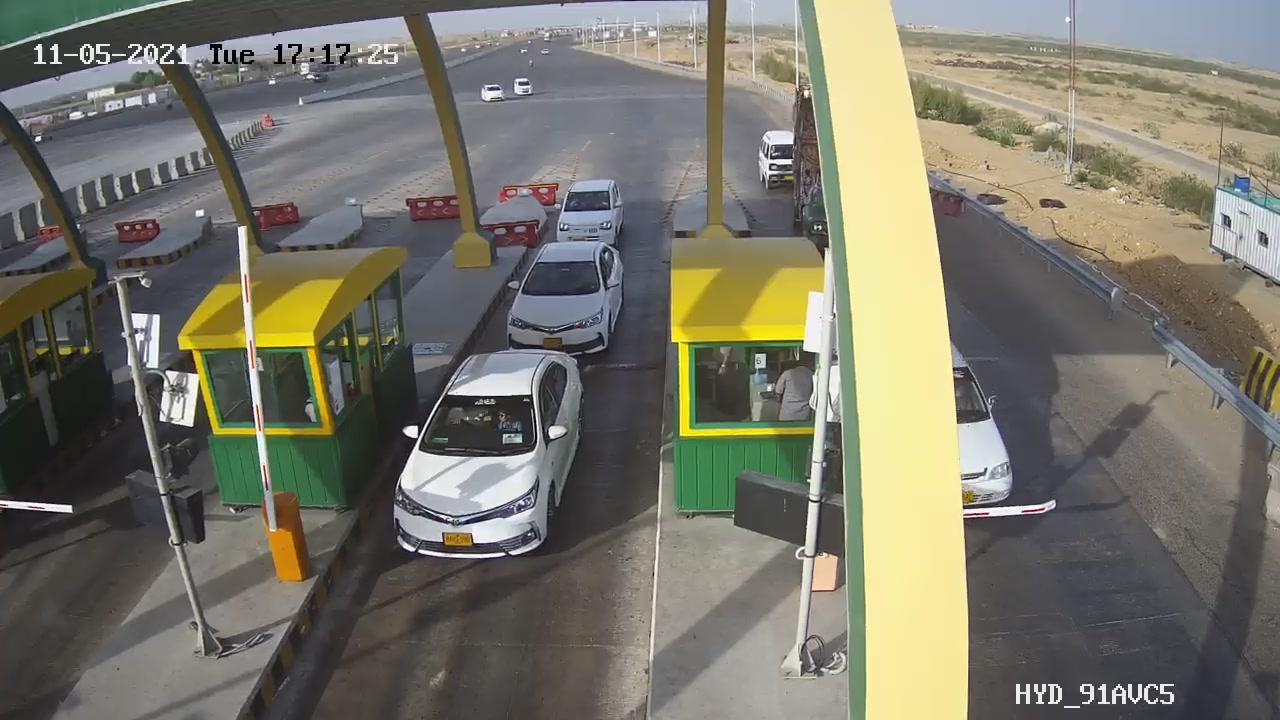F1: (378, 335, 600, 573), (487, 230, 640, 375), (542, 170, 643, 255)
